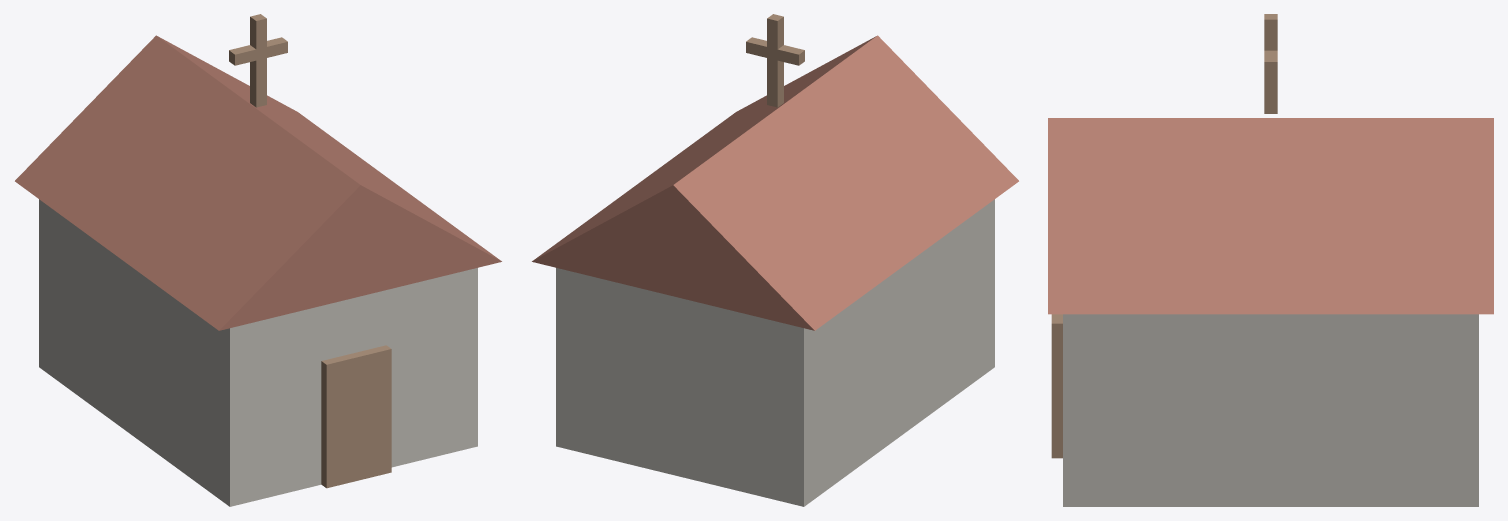
File: chapel.glb
The picture shows the model from 3 angles, left to right: view 1: azimuth 30°, elevation 25°; view 2: azimuth 150°, elevation 25°; view 3: azimuth 270°, elevation 25°; orthographic projection. The views are drawn at different scales.
Visible parts, largest first — view 1: chapel_roof, chapel_stone, chapel_wood; view 2: chapel_stone, chapel_roof, chapel_wood; view 3: chapel_roof, chapel_stone, chapel_wood.
Boxes of the visible parts, <box> form: chapel_roof: <box>15,35,501,330</box>; chapel_stone: <box>39,199,477,506</box>; chapel_wood: <box>229,14,391,488</box>; chapel_stone: <box>556,199,994,506</box>; chapel_roof: <box>532,35,1018,330</box>; chapel_wood: <box>746,14,804,107</box>; chapel_roof: <box>1048,118,1493,314</box>; chapel_stone: <box>1063,314,1478,506</box>; chapel_wood: <box>1051,14,1277,458</box>.
Size of the model in its own units: 1.6 by 2.1 by 2.
